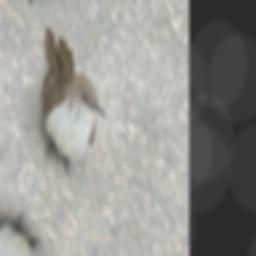Cuckoo: (8, 22, 116, 193)
